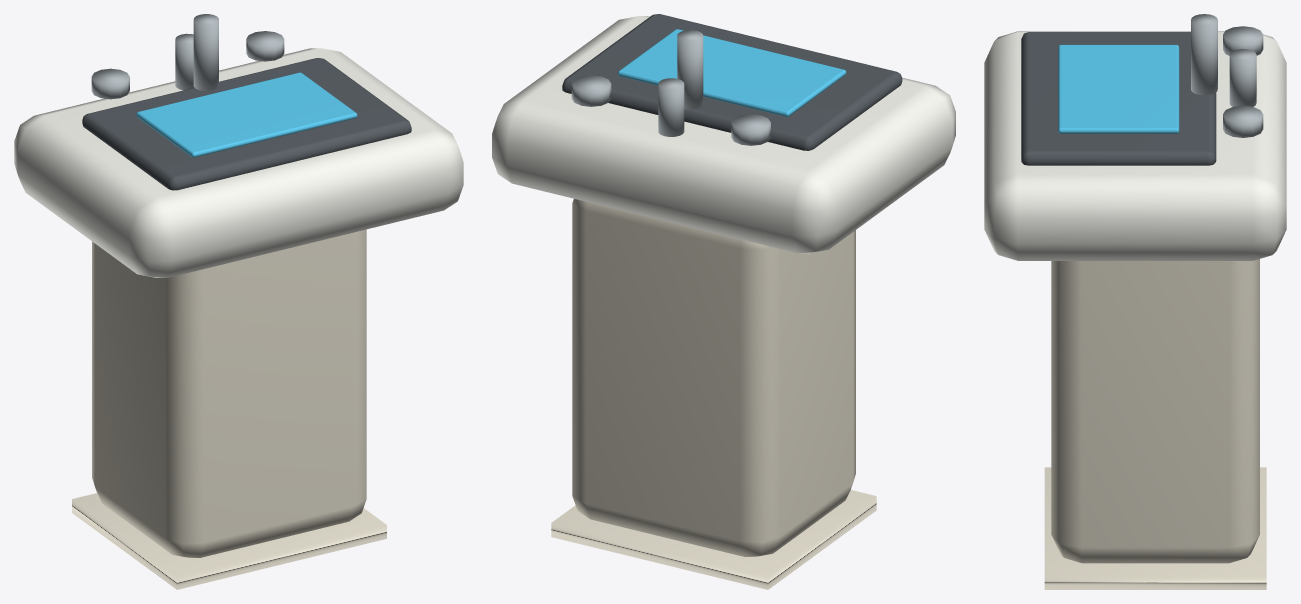
Rendered from Sink.fbx.
The picture shows the model from 3 angles, left to right: view 1: azimuth 30°, elevation 25°; view 2: azimuth 150°, elevation 25°; view 3: azimuth 270°, elevation 25°; orthographic projection. The views are drawn at different scales.
Parts seen in each view (by area): view 1: Sink_Pedestal, Sink_Basin, Sink_Bowl, Sink_Water, Sink_Platform, Sink_Spout, Sink_KnobLeft, Sink_KnobRight, Sink_Faucet; view 2: Sink_Pedestal, Sink_Basin, Sink_Bowl, Sink_Platform, Sink_Water, Sink_Spout, Sink_Faucet, Sink_KnobRight, Sink_KnobLeft; view 3: Sink_Pedestal, Sink_Basin, Sink_Bowl, Sink_Water, Sink_Platform, Sink_Spout, Sink_Faucet, Sink_KnobRight, Sink_KnobLeft.
Boxes of the visible parts, box(x1,y1,x2,y2) form: Sink_Pedestal: box(92, 229, 366, 557); Sink_Basin: box(14, 48, 463, 277); Sink_Bowl: box(82, 58, 411, 190); Sink_Water: box(136, 72, 357, 157); Sink_Platform: box(72, 493, 386, 589); Sink_Spout: box(193, 14, 218, 90); Sink_KnobLeft: box(91, 68, 129, 99); Sink_KnobRight: box(246, 31, 284, 61); Sink_Faucet: box(175, 33, 194, 90); Sink_Pedestal: box(572, 199, 855, 556); Sink_Basin: box(492, 16, 955, 253); Sink_Bowl: box(562, 14, 902, 150); Sink_Platform: box(551, 490, 876, 589); Sink_Water: box(618, 29, 846, 116); Sink_Spout: box(677, 30, 703, 109); Sink_Faucet: box(658, 78, 684, 136); Sink_KnobRight: box(571, 75, 611, 106); Sink_KnobLeft: box(731, 114, 770, 145); Sink_Pedestal: box(1051, 259, 1259, 563); Sink_Basin: box(984, 31, 1286, 260); Sink_Bowl: box(1021, 32, 1216, 165); Sink_Water: box(1058, 44, 1179, 133); Sink_Platform: box(1044, 467, 1266, 589); Sink_Spout: box(1191, 14, 1217, 95); Sink_Faucet: box(1229, 49, 1256, 106); Sink_KnobRight: box(1223, 105, 1263, 137); Sink_KnobLeft: box(1223, 26, 1263, 55).
Size of the model in its own units: 0.6 by 0.8475 by 0.45.
